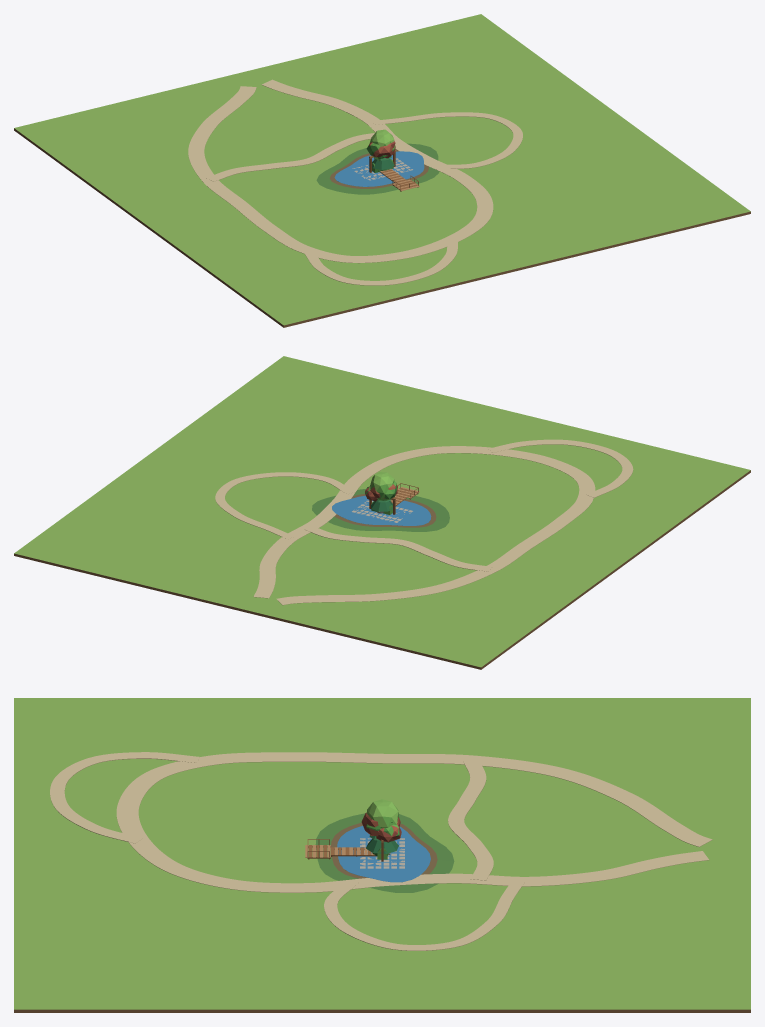
File: Park_A_Kit.fbx
3 views of the same model, one above another, from view 1: azimuth 30°, elevation 25°; view 2: azimuth 150°, elevation 25°; view 3: azimuth 270°, elevation 25° (orthographic). The views are drawn at different scales.
Parts seen in each view (by area): view 1: Park_A_Ground, Park_A_Path_01, Park_A_Pond_Edge, Park_A_Pond_Water, Park_A_Path_04, Park_A_Path_03, Park_A_Path_02; view 2: Park_A_Ground, Park_A_Path_01, Park_A_Pond_Water, Park_A_Pond_Edge, Park_A_Path_04, Park_A_Path_03, Park_A_Path_02; view 3: Park_A_Ground, Park_A_Path_01, Park_A_Pond_Edge, Park_A_Pond_Water, Park_A_Path_04, Park_A_Path_03, Park_A_Path_02, Park_A_Boardwalk, Park_A_Tree_Linden, Park_A_EntrancePlaza, Park_A_Tree_CopperBeech.
Boxes of the visible parts, left/top/right/bottom form: Park_A_Ground: left=14, top=14, right=750, bottom=327; Park_A_Path_01: left=188, top=79, right=493, bottom=263; Park_A_Pond_Edge: left=316, top=143, right=439, bottom=194; Park_A_Pond_Water: left=334, top=151, right=424, bottom=186; Park_A_Path_04: left=373, top=112, right=522, bottom=169; Park_A_Path_03: left=305, top=239, right=458, bottom=285; Park_A_Path_02: left=206, top=133, right=374, bottom=181; Park_A_Ground: left=14, top=356, right=750, bottom=669; Park_A_Path_01: left=253, top=446, right=595, bottom=605; Park_A_Pond_Water: left=332, top=495, right=431, bottom=525; Park_A_Pond_Edge: left=312, top=489, right=449, bottom=531; Park_A_Path_04: left=215, top=472, right=354, bottom=539; Park_A_Path_03: left=488, top=439, right=633, bottom=497; Park_A_Path_02: left=304, top=525, right=491, bottom=571; Park_A_Ground: left=14, top=698, right=750, bottom=1012; Park_A_Path_01: left=116, top=752, right=712, bottom=892; Park_A_Pond_Edge: left=315, top=813, right=454, bottom=892; Park_A_Pond_Water: left=337, top=826, right=430, bottom=882; Park_A_Path_04: left=324, top=880, right=524, bottom=950; Park_A_Path_03: left=50, top=752, right=199, bottom=843; Park_A_Path_02: left=448, top=759, right=493, bottom=880; Park_A_Boardwalk: left=305, top=839, right=376, bottom=859; Park_A_Tree_Linden: left=366, top=799, right=399, bottom=828; Park_A_EntrancePlaza: left=360, top=838, right=404, bottom=868; Park_A_Tree_CopperBeech: left=361, top=812, right=401, bottom=842.
Bounding box in the file's own units: 100 × 8.18 × 100.
